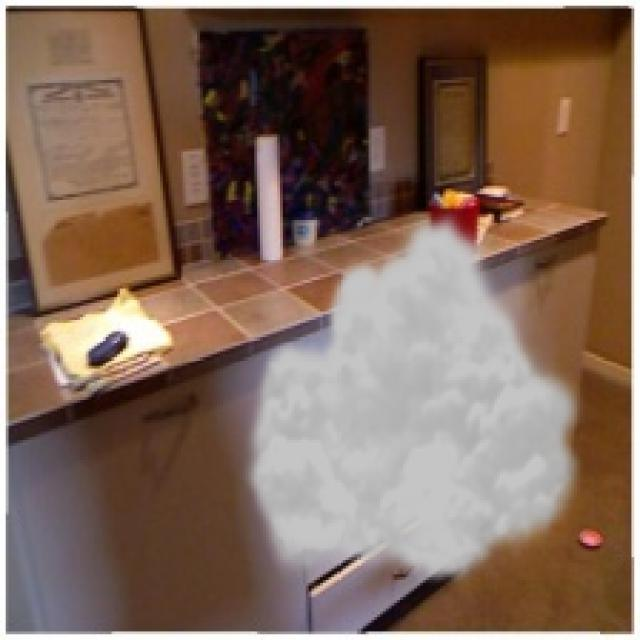smoke: (240, 205, 591, 586)
